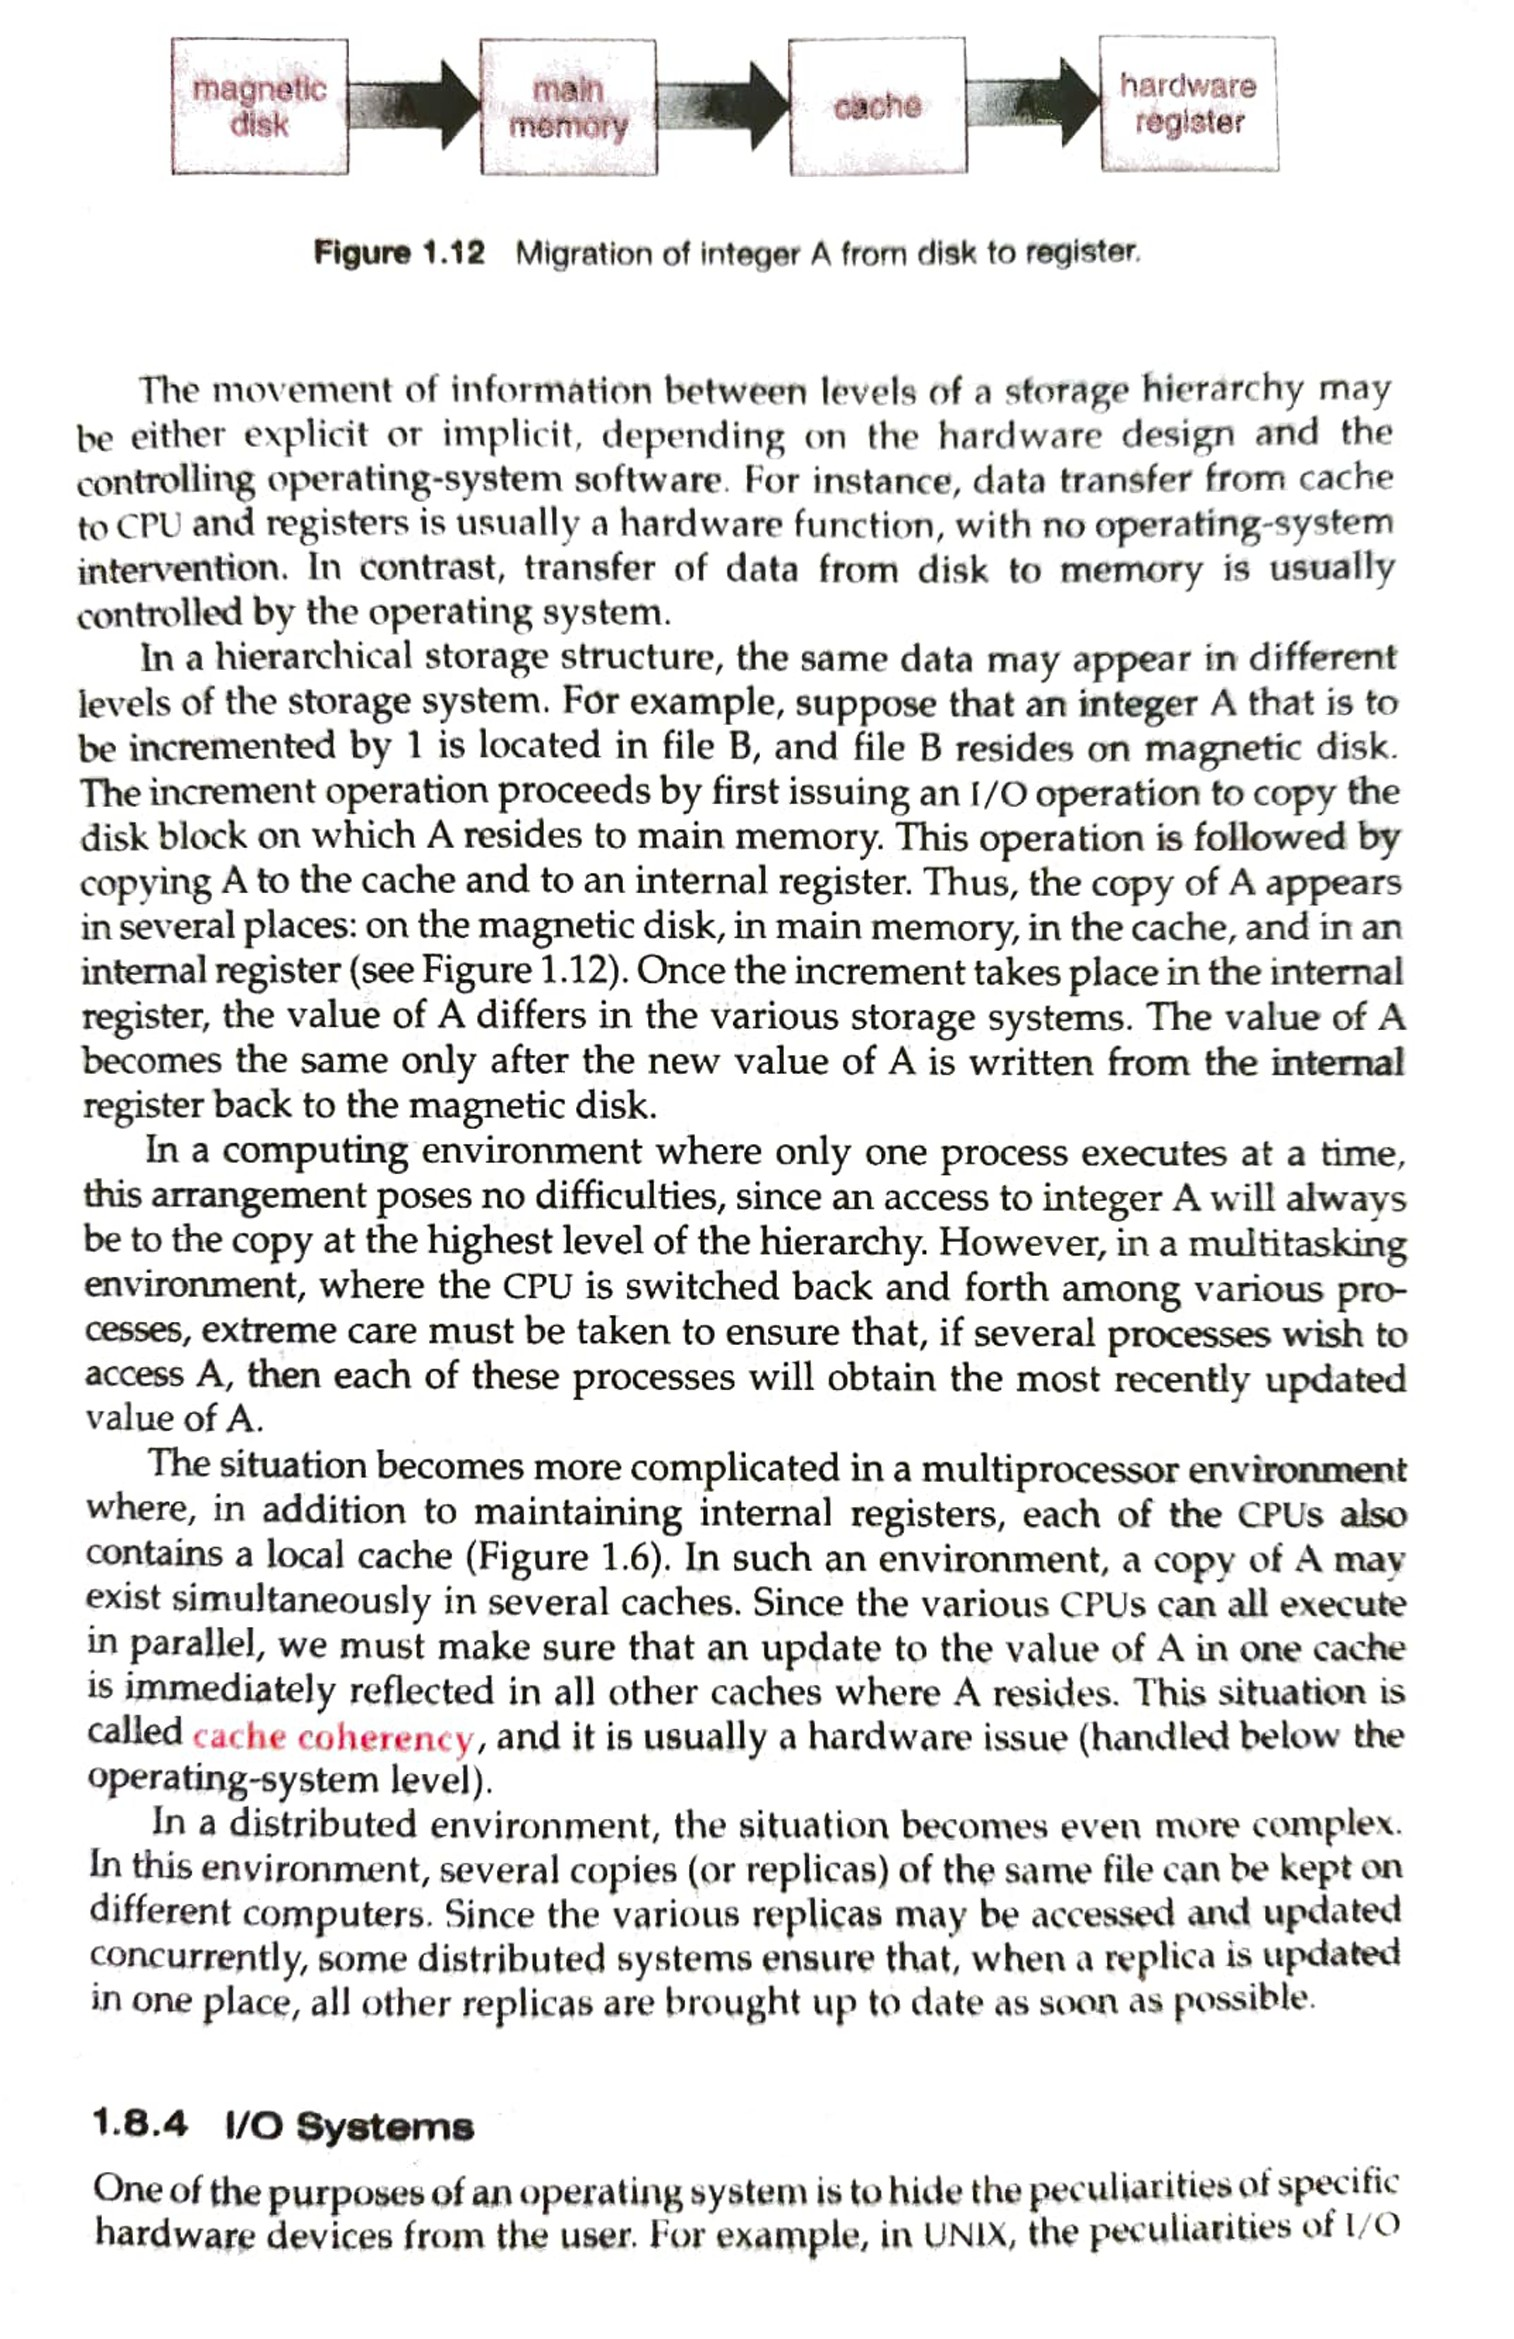BB1: (53, 319, 1482, 638)
BB2: (53, 631, 1465, 1130)
BB3: (49, 1130, 1485, 1444)
BB4: (56, 1437, 1475, 1805)
BB5: (53, 1783, 1478, 2065)
